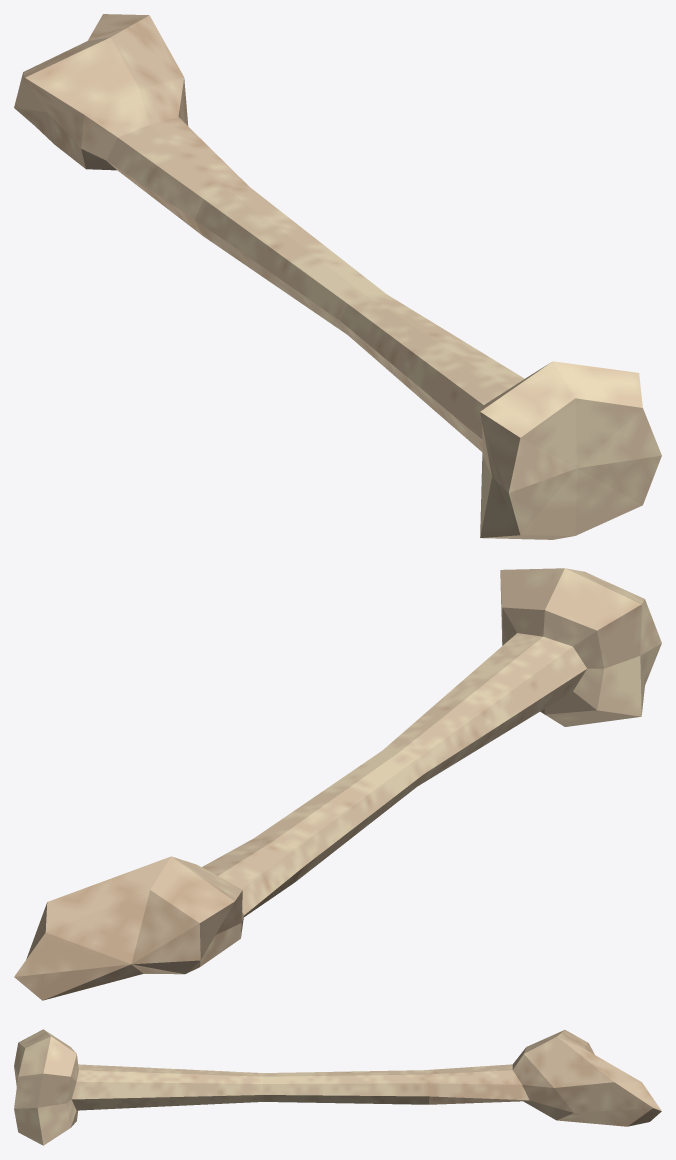
The model's file is SM_Dungeon_Bones_Small.fbx.
The picture shows the model from 3 angles, top to bottom: view 1: azimuth 30°, elevation 25°; view 2: azimuth 150°, elevation 25°; view 3: azimuth 270°, elevation 25°; orthographic projection. The views are drawn at different scales.
Visible parts, largest first — view 1: SM_Dungeon_Bones_Small; view 2: SM_Dungeon_Bones_Small; view 3: SM_Dungeon_Bones_Small.
Boxes of the visible parts, x1,y1,x2,y2 form: SM_Dungeon_Bones_Small: (14,14,661,539); SM_Dungeon_Bones_Small: (14,568,661,1000); SM_Dungeon_Bones_Small: (14,1029,661,1145).
Bounding box in the file's own units: 5.01 × 5.06 × 29.09.
